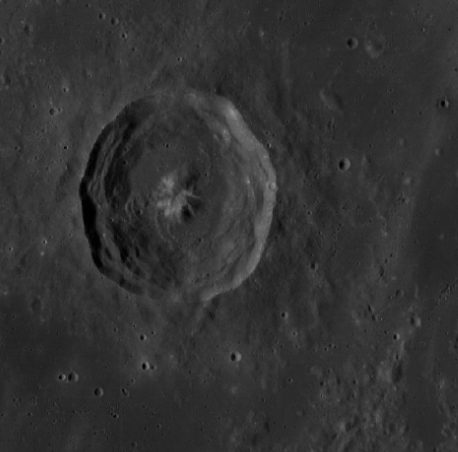crater: (53, 45, 301, 355)
